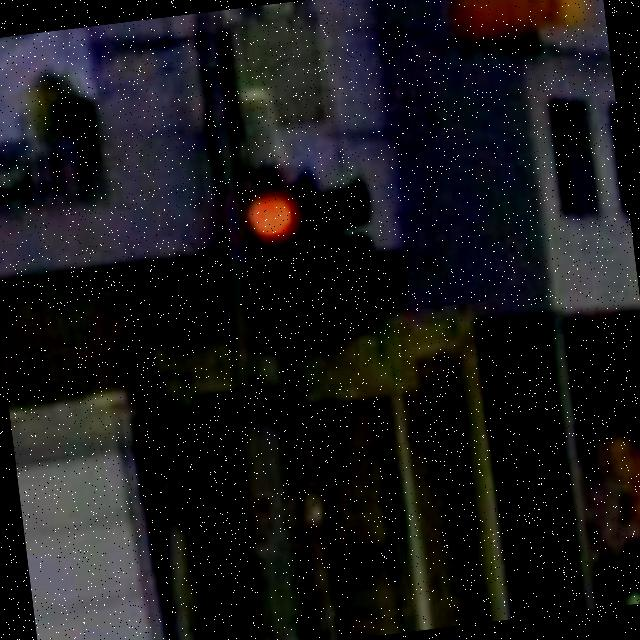Czerwone swiatlo: (234, 182, 320, 354)
